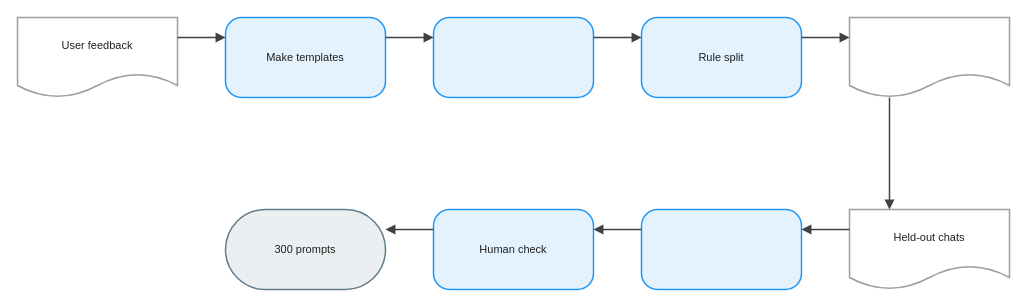
The diagram is 1028 pixels wide and 308 high, and some of its shapes have lost their labels. Each missing label, with the centre of its shape:
58 constraints: point (929, 57)
Add 1-2 rules: point (721, 249)
Python verify: point (513, 57)
